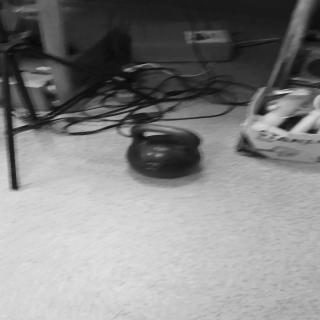girya: (128, 125, 203, 181)
